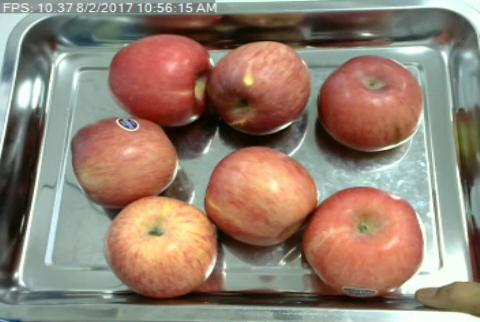apple: (301, 187, 425, 293), (105, 195, 219, 297), (204, 145, 316, 246), (318, 55, 424, 153), (209, 41, 312, 134), (108, 34, 213, 123), (71, 116, 179, 201)
